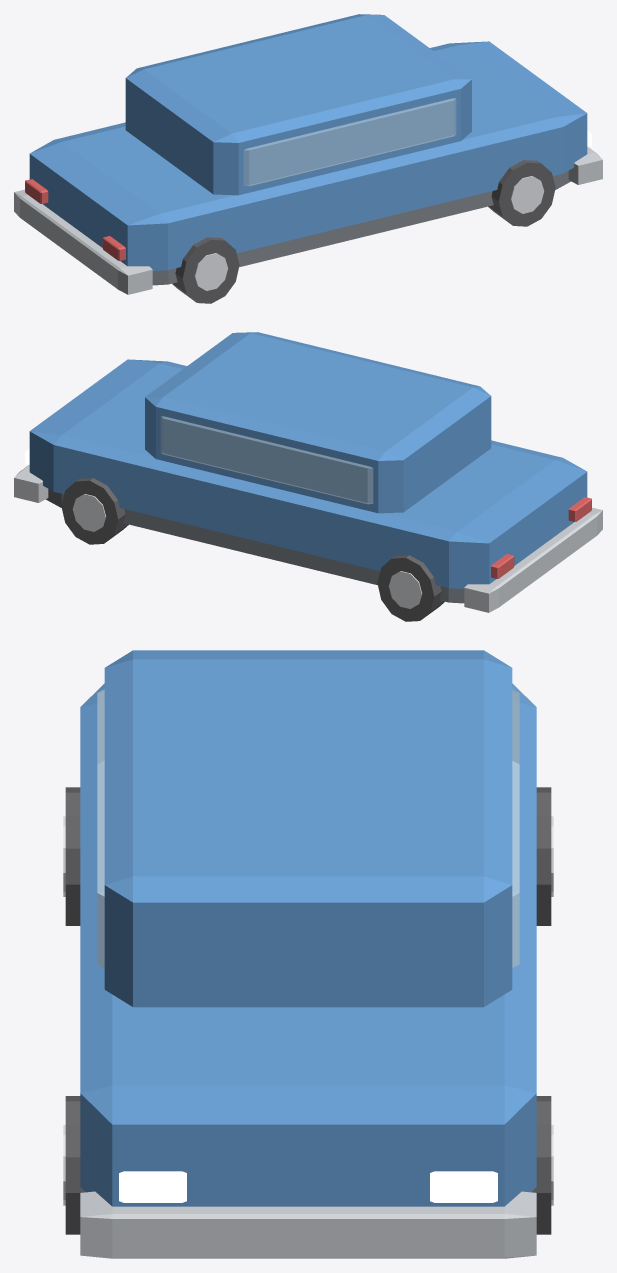
File: b03_midsize_sedan.glb
3 views of the same model, one above another, from view 1: azimuth 30°, elevation 25°; view 2: azimuth 150°, elevation 25°; view 3: azimuth 270°, elevation 25° (orthographic). The views are drawn at different scales.
Parts seen in each view (by area): view 1: b03_midsize_sedan; view 2: b03_midsize_sedan; view 3: b03_midsize_sedan.
Part boxes in pixels (x1,y1,x2,y2): b03_midsize_sedan: (14, 14, 602, 303); b03_midsize_sedan: (14, 332, 602, 621); b03_midsize_sedan: (63, 650, 553, 1258).
Size of the model in its own units: 5.06 by 1.5 by 2.24.
